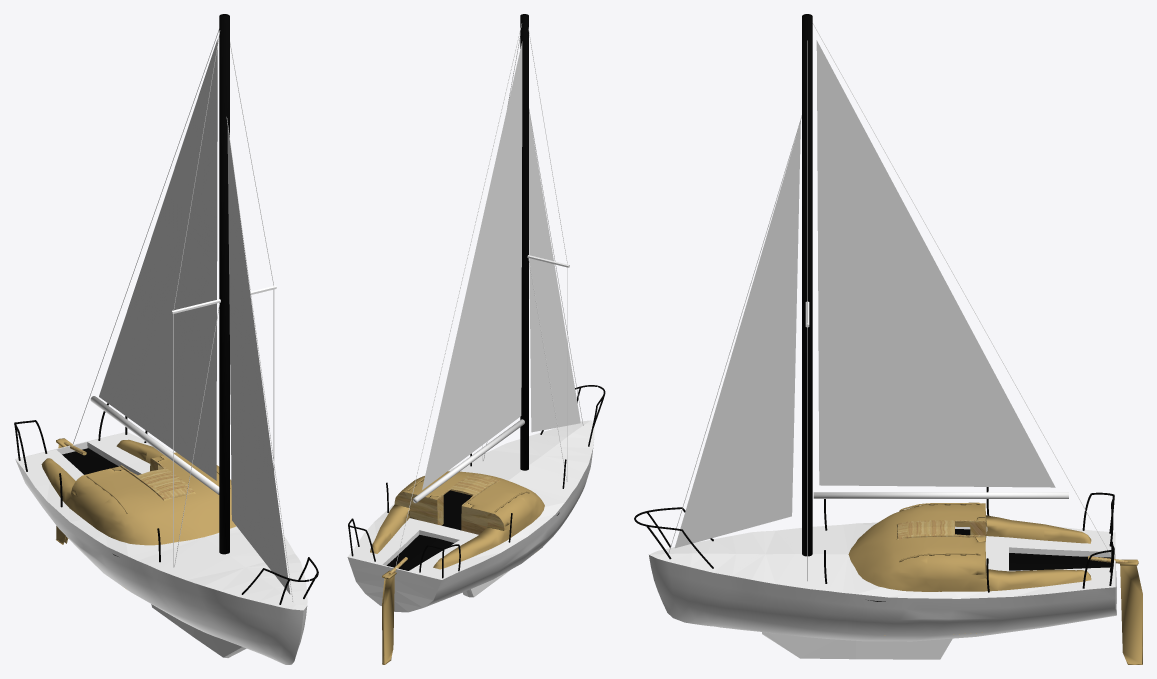
File: boat1.dae
The picture shows the model from 3 angles, left to right: view 1: azimuth 30°, elevation 25°; view 2: azimuth 150°, elevation 25°; view 3: azimuth 270°, elevation 25°; orthographic projection. The views are drawn at different scales.
Visible parts, largest first — view 1: SailMain_Plane_002, SailJib_Plane_001, Deck_Plane, Hull_Cube, Cabin_Cabin11, MastMain_Cylinder, Stays1_Cylinder_002, Cover_Cabin11_001, Boom_Cylinder_001, HandRails_Mesh, Stays2_Cylinder_003, Keel_Cube_001 (+1 smaller); view 2: SailMain_Plane_002, Deck_Plane, SailJib_Plane_001, Cabin_Cabin11, MastMain_Cylinder, Hull_Cube, Cabin2, invdeck_Plane_003, Rudder, HandRails_Mesh, Stays1_Cylinder_002, Stays2_Cylinder_003 (+2 smaller); view 3: SailMain_Plane_002, SailJib_Plane_001, Hull_Cube, Deck_Plane, Cabin_Cabin11, MastMain_Cylinder, Keel_Cube_001, Rudder, Boom_Cylinder_001, invdeck_Plane_003, HandRails_Mesh, Cover_Cabin11_001 (+1 smaller).
Part boxes in pixels (box(x1,y1,x2,y2)): SailMain_Plane_002: box(99, 39, 217, 480); SailJib_Plane_001: box(227, 127, 290, 594); Deck_Plane: box(15, 432, 307, 610); Hull_Cube: box(15, 459, 307, 664); Cabin_Cabin11: box(41, 439, 235, 545); MastMain_Cylinder: box(219, 14, 229, 554); Stays1_Cylinder_002: box(171, 30, 276, 567); Cover_Cabin11_001: box(120, 458, 195, 501); Boom_Cylinder_001: box(90, 396, 219, 494); HandRails_Mesh: box(14, 403, 318, 604); Stays2_Cylinder_003: box(73, 29, 293, 602); Keel_Cube_001: box(151, 604, 246, 657); SailMain_Plane_002: box(422, 41, 522, 489); Deck_Plane: box(347, 420, 594, 612); SailJib_Plane_001: box(529, 111, 580, 432); Cabin_Cabin11: box(370, 471, 544, 569); MastMain_Cylinder: box(520, 14, 528, 470); Hull_Cube: box(424, 445, 593, 607); Cabin2: box(394, 492, 537, 551); invdeck_Plane_003: box(386, 490, 559, 570); Rudder: box(382, 557, 407, 664); HandRails_Mesh: box(348, 385, 605, 578); Stays1_Cylinder_002: box(482, 27, 569, 481); Stays2_Cylinder_003: box(396, 23, 583, 565); SailMain_Plane_002: box(816, 40, 1055, 487); SailJib_Plane_001: box(674, 120, 800, 548); Hull_Cube: box(649, 526, 1116, 641); Deck_Plane: box(649, 522, 1116, 614); Cabin_Cabin11: box(848, 502, 1091, 591); MastMain_Cylinder: box(802, 14, 812, 556); Keel_Cube_001: box(762, 632, 952, 659); Rudder: box(1088, 556, 1142, 664); Boom_Cylinder_001: box(813, 492, 1068, 498); invdeck_Plane_003: box(868, 529, 1111, 601); HandRails_Mesh: box(634, 487, 1114, 592); Cover_Cabin11_001: box(896, 520, 985, 539).
Size of the model in its own units: 1.88 by 5.22 by 7.33.
Materials: 5 (5 with a texture image).
